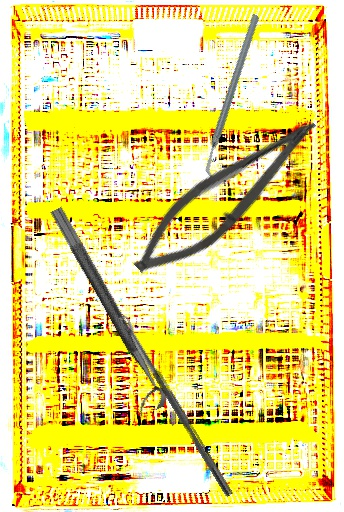Chopper: (153, 13, 313, 181)
Fixation Ring: (32, 205, 172, 419)
Micro Scissor: (121, 96, 329, 294)
Surgical Spoon: (118, 313, 235, 498)
